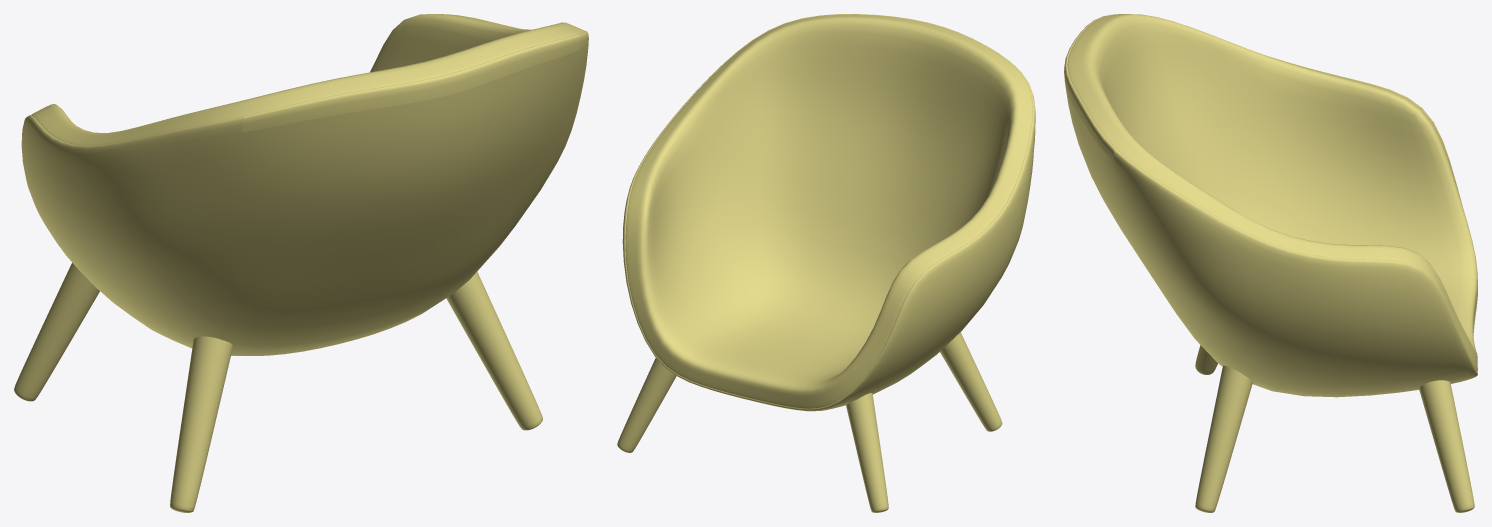
File: chair2.glb
3 renders of one model, left to right at view 1: azimuth 30°, elevation 25°; view 2: azimuth 150°, elevation 25°; view 3: azimuth 270°, elevation 25°, orthographic. The views are drawn at different scales.
Visible parts, largest first — view 1: Body, Legs; view 2: Body, Legs; view 3: Body, Legs.
Part boxes in pixels (x1,y1,x2,y2): Body: (21, 14, 588, 355); Legs: (14, 34, 580, 512); Body: (622, 14, 1035, 411); Legs: (617, 27, 1028, 512); Body: (1066, 14, 1477, 397); Legs: (1064, 16, 1474, 512).
Bounding box in the file's own units: 1.28 × 1.2 × 1.18.
